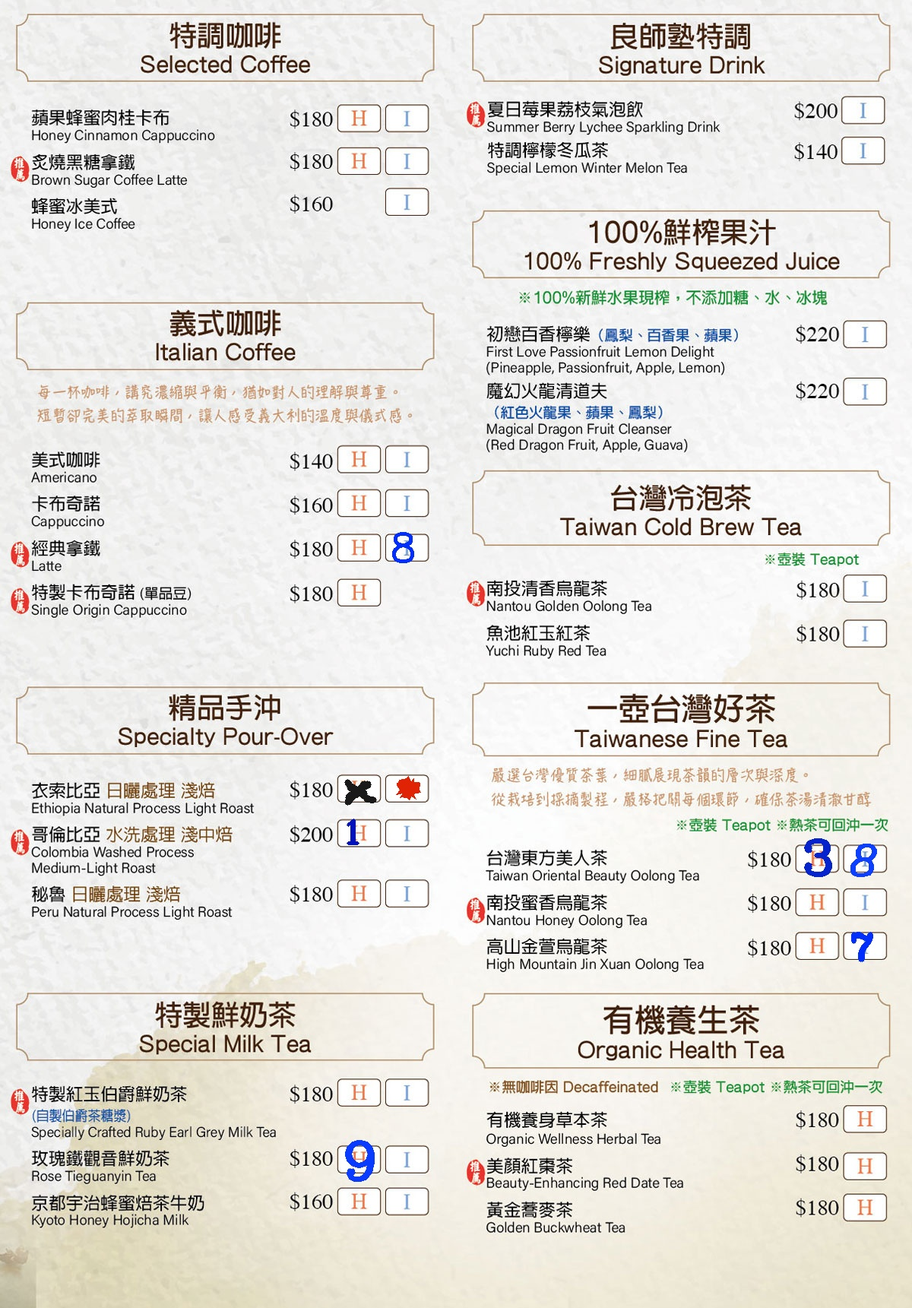marked_circle: (387, 775, 426, 799)
marked_number_1: (339, 822, 378, 845)
marked_number_3: (796, 845, 835, 869)
marked_number_7: (844, 934, 883, 958)
marked_number_8: (844, 845, 883, 869), (388, 535, 426, 559)
marked_number_9: (340, 1146, 379, 1170)
marked_x: (339, 776, 378, 800)
